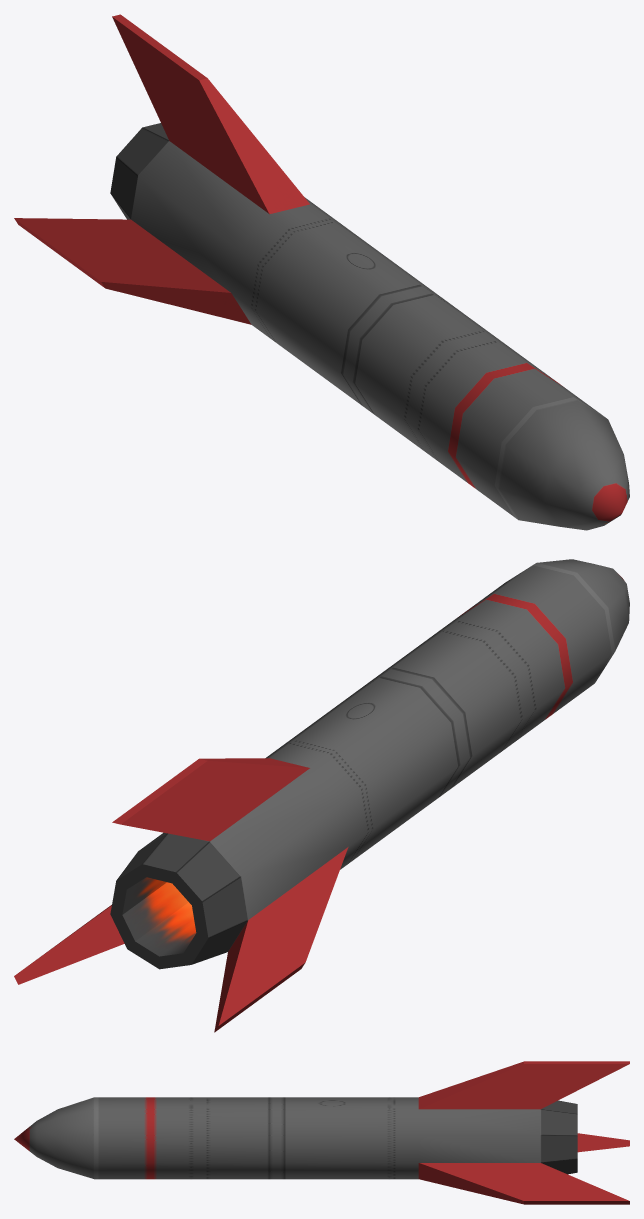
Rendered from Projectile_Missile.fbx.
3 views of the same model, one above another, from view 1: azimuth 30°, elevation 25°; view 2: azimuth 150°, elevation 25°; view 3: azimuth 270°, elevation 25° (orthographic). The views are drawn at different scales.
Parts seen in each view (by area): view 1: Projectile_Missile:Projectile_Missile1; view 2: Projectile_Missile:Projectile_Missile1; view 3: Projectile_Missile:Projectile_Missile1.
Boxes of the visible parts, x1=… form: Projectile_Missile:Projectile_Missile1: x1=14, y1=14, x2=629, y2=530; Projectile_Missile:Projectile_Missile1: x1=14, y1=559, x2=629, y2=1032; Projectile_Missile:Projectile_Missile1: x1=14, y1=1061, x2=629, y2=1204.
Bounding box in the file's own units: 43.63 × 38.22 × 187.
